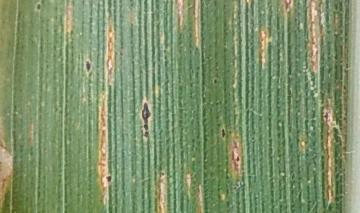tarspot: (139, 96, 155, 139), (219, 124, 228, 143), (83, 58, 93, 73), (104, 172, 115, 184), (210, 76, 221, 87)
